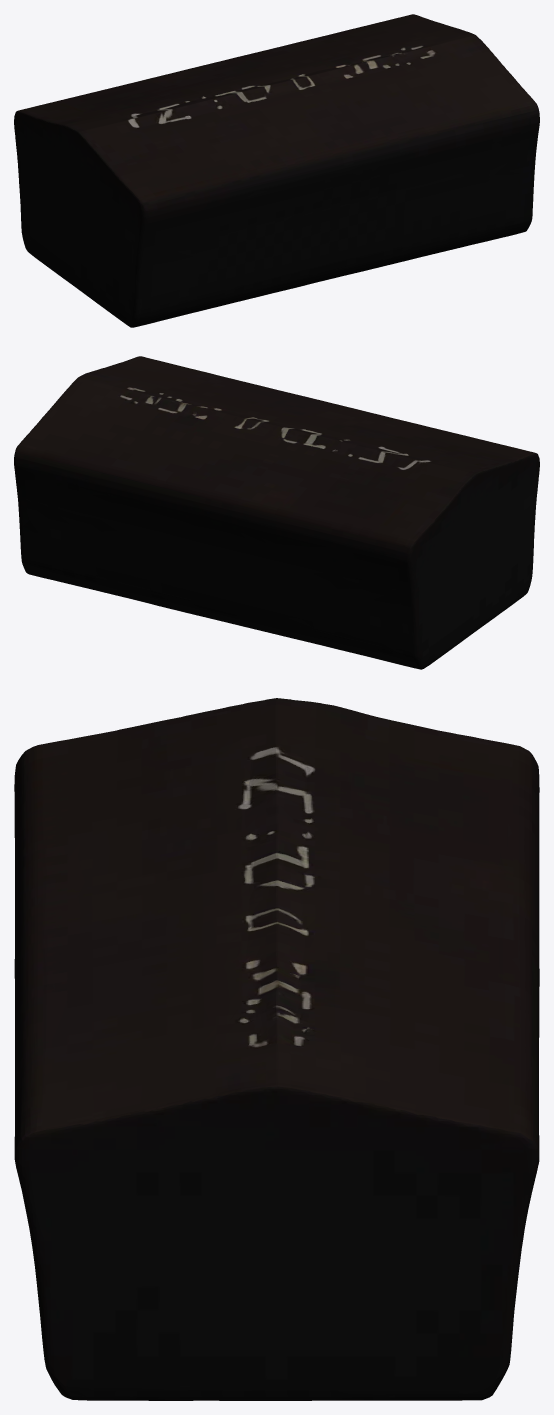
File: 6b674efe-abdf-488e-b404-c219fffac203.glb
3 renders of one model, top to bottom at view 1: azimuth 30°, elevation 25°; view 2: azimuth 150°, elevation 25°; view 3: azimuth 270°, elevation 25°, orthographic. The views are drawn at different scales.
Visible parts, largest first — view 1: world; view 2: world; view 3: world.
Boxes of the visible parts, left/top/right/bottom form: world: left=14, top=14, right=539, bottom=327; world: left=14, top=356, right=539, bottom=669; world: left=14, top=698, right=539, bottom=1400.
Size of the model in its own units: 1 by 0.3826 by 0.5699.
Materials: 1 (1 with a texture image).
